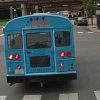Bus: (4, 10, 80, 88)
